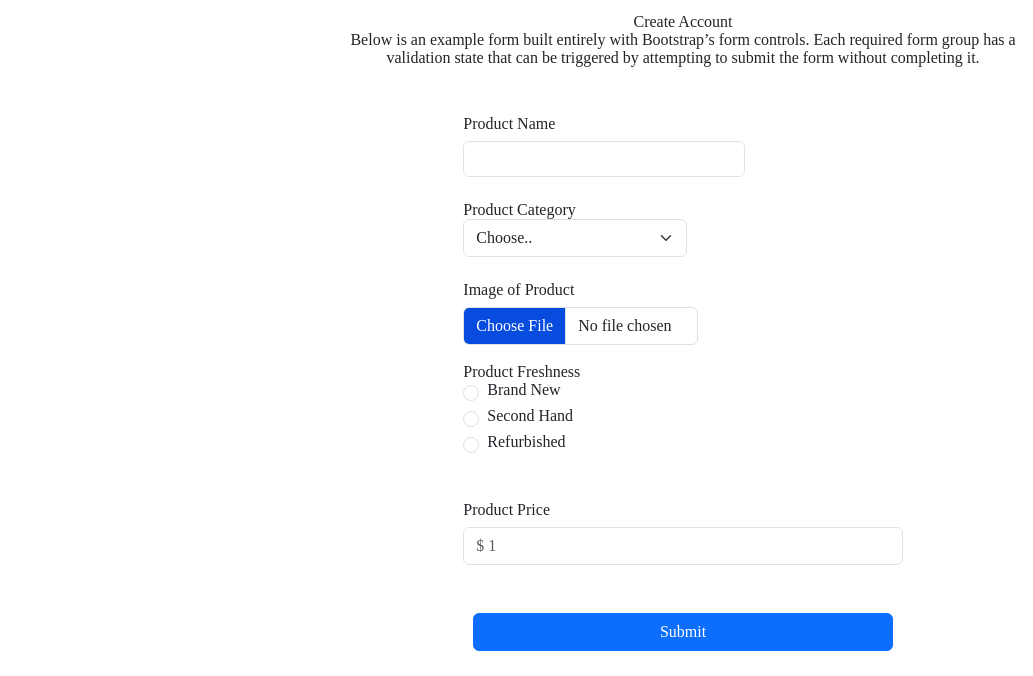
Test case: should show error message when Product Name contains invalid characters
Type "~!@#$%^&*" into the field with test id "productNameTest" at (604, 159), box [463,141,745,177]
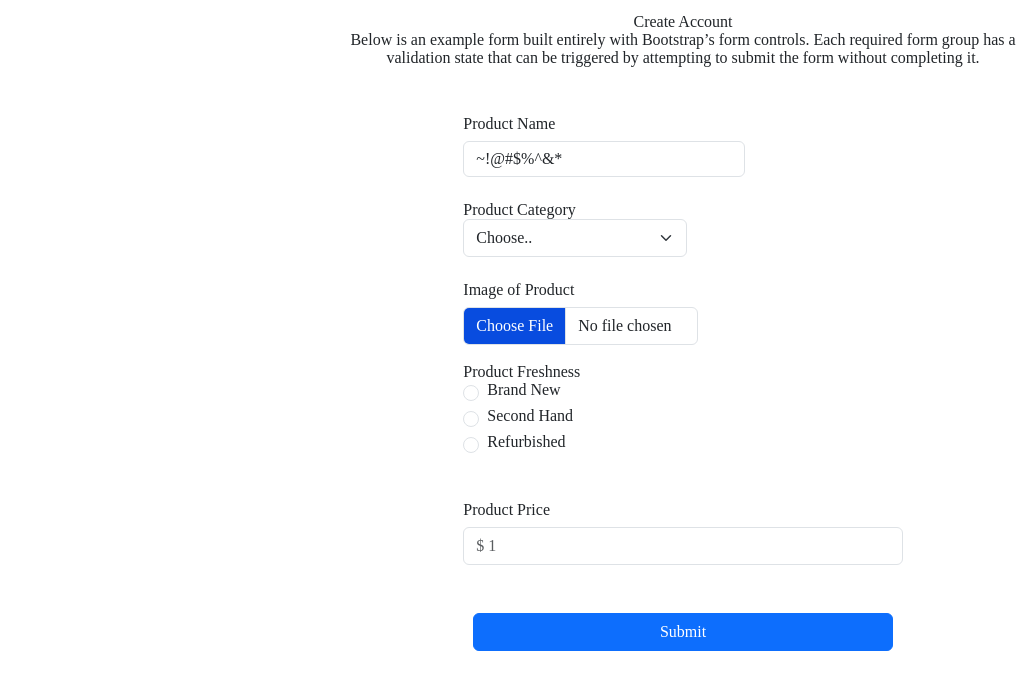
Click the button "Submit" at (683, 632), box [473,613,893,651]
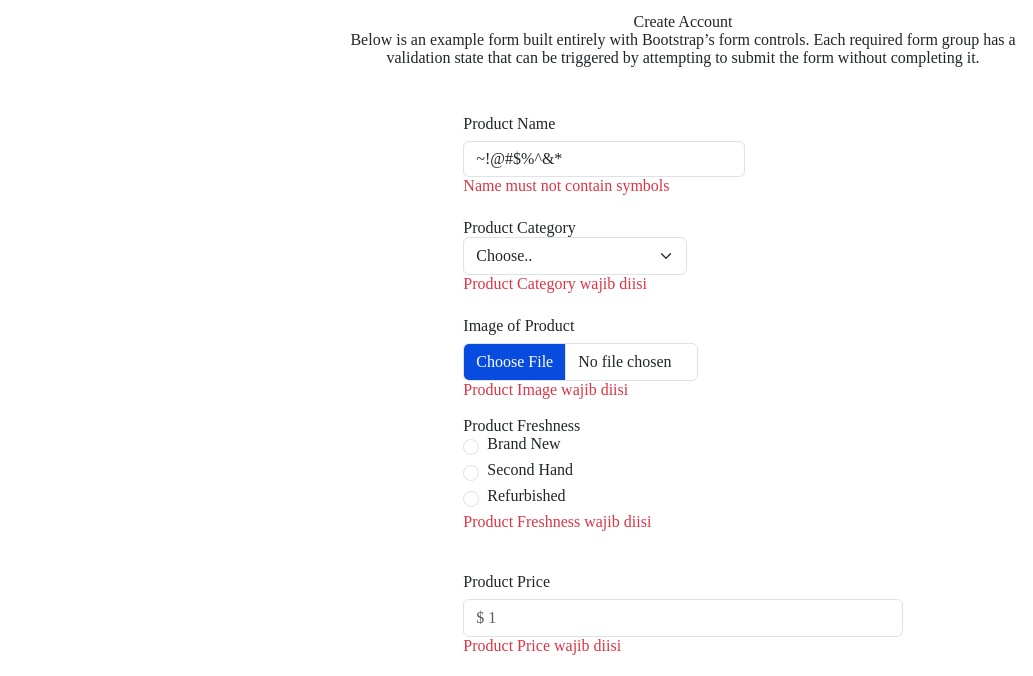
Check: the text "Name must not contain symbols" is shown, box [463,177,670,194]
